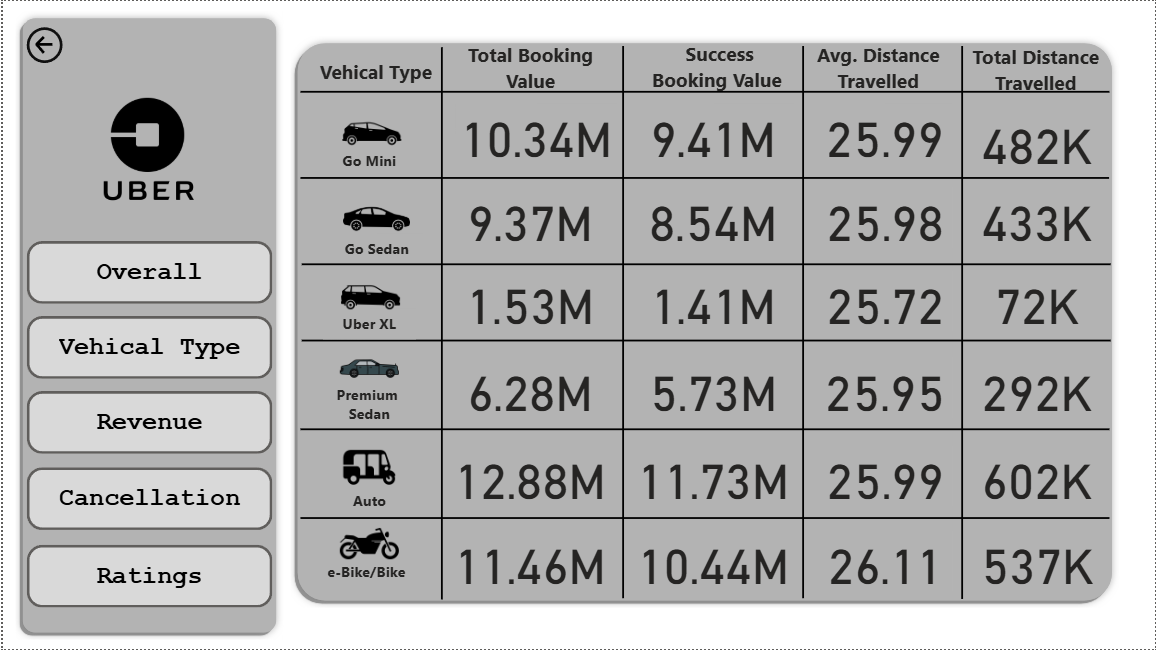

Layout of this report page (visuals, bound fields, positions):
{"tool":"powerbi","page":{"name":"Vehical Type","canvas":[1280,720],"ordinal":2},"visuals":[{"type":"shape","box":[13.9,11.1,297.7,698.4],"z":0},{"type":"actionButton","box":[26.1,28.8,39.8,39.8],"z":1000},{"type":"actionButton","box":[26.1,266.2,273.1,70],"z":2000},{"type":"actionButton","box":[26.1,349.9,273.1,70],"z":3000},{"type":"actionButton","box":[26.1,433.6,273.1,70],"z":4000},{"type":"actionButton","box":[26.1,518.7,273.1,70],"z":5000},{"type":"actionButton","box":[26.1,603.8,273.1,70],"z":6000},{"type":"shape","box":[319.7,38.4,920.8,635.3],"z":7000},{"type":"shape","box":[330.7,59,898.8,85.1],"z":8000},{"type":"shape","box":[331.1,154.4,898.8,84.9],"z":9000},{"type":"shape","box":[332.1,249.7,898.8,85.1],"z":10000},{"type":"shape","box":[332.1,334.8,898.8,85.1],"z":11000},{"type":"shape","box":[410.4,51.5,153,613.6],"z":12000},{"type":"shape","box":[612.2,50.1,153,613.6],"z":13000},{"type":"shape","box":[812.5,50.1,153,613.6],"z":14000},{"type":"shape","box":[989.4,49.4,153.7,614.8],"z":15000},{"type":"shape","box":[330.7,433.6,898.8,85.1],"z":16000},{"type":"shape","box":[330.7,532.4,898.8,85.1],"z":17000},{"type":"textbox","box":[343.1,59,142.7,42.5],"z":18000},{"type":"textbox","box":[502.3,40.3,167,71],"z":19000},{"type":"textbox","box":[712.2,38.4,167.4,72.7],"z":20000},{"type":"textbox","box":[889.2,39.8,167.4,72.7],"z":21000},{"type":"textbox","box":[1063.5,41.2,167.4,72.7],"z":22000},{"type":"card","fields":{"Values":["Sum(Uber.Booking Value)"]},"box":[502.3,114.1,179.5,68.2],"z":23000},{"type":"card","fields":{"Values":["Sum(Uber.Booking Value)"]},"box":[698.4,114.1,180.9,68.2],"z":24000},{"type":"card","fields":{"Values":["Avg(Uber.Ride Distance)"]},"box":[905.7,114.1,148.9,68.2],"z":25000},{"type":"textbox","box":[356.2,161.4,103,34.8],"z":26000},{"type":"textbox","box":[363.6,258,102.9,32],"z":27000},{"type":"textbox","box":[356.2,342.3,103,34.8],"z":28000},{"type":"textbox","box":[356.2,420.2,103,53],"z":29000},{"type":"textbox","box":[355.6,538.8,103.4,34.5],"z":30000},{"type":"textbox","box":[356.2,617.7,103,33.4],"z":31000},{"type":"card","fields":{"Values":["Sum(Uber.Ride Distance)"]},"box":[1074.4,120.8,148.2,68.6],"z":32000},{"type":"card","fields":{"Values":["Sum(Uber.Booking Value)"]},"box":[495.4,207.2,179.8,67.2],"z":33000},{"type":"card","fields":{"Values":["Sum(Uber.Booking Value)"]},"box":[698.5,207.2,181.1,67.2],"z":34000},{"type":"card","fields":{"Values":["Avg(Uber.Ride Distance)"]},"box":[905.7,207.2,149.6,67.2],"z":35000},{"type":"card","fields":{"Values":["Sum(Uber.Ride Distance)"]},"box":[1074.4,207.2,148.2,67.2],"z":36000},{"type":"card","fields":{"Values":["Sum(Uber.Booking Value)"]},"box":[495.5,299.5,179.8,67.2],"z":37000},{"type":"card","fields":{"Values":["Sum(Uber.Booking Value)"]},"box":[698.6,299.5,181.1,67.2],"z":38000},{"type":"card","fields":{"Values":["Avg(Uber.Ride Distance)"]},"box":[905.8,299.5,149.6,67.2],"z":39000},{"type":"card","fields":{"Values":["Sum(Uber.Ride Distance)"]},"box":[1074.6,299.5,148.2,67.2],"z":40000},{"type":"card","fields":{"Values":["Sum(Uber.Booking Value)"]},"box":[495.6,396.3,179.8,67.2],"z":41000},{"type":"card","fields":{"Values":["Sum(Uber.Booking Value)"]},"box":[698.7,396.3,181.1,67.2],"z":42000},{"type":"card","fields":{"Values":["Avg(Uber.Ride Distance)"]},"box":[905.9,396.3,149.6,67.2],"z":43000},{"type":"card","fields":{"Values":["Sum(Uber.Ride Distance)"]},"box":[1074.7,396.3,148.2,67.2],"z":44000},{"type":"card","fields":{"Values":["Sum(Uber.Booking Value)"]},"box":[495.7,494.1,179.8,67.2],"z":45000},{"type":"card","fields":{"Values":["Sum(Uber.Booking Value)"]},"box":[698.8,494.1,181.1,67.2],"z":46000},{"type":"card","fields":{"Values":["Avg(Uber.Ride Distance)"]},"box":[906,494.1,149.6,67.2],"z":47000},{"type":"card","fields":{"Values":["Sum(Uber.Ride Distance)"]},"box":[1074.8,494.1,148.2,67.2],"z":48000},{"type":"card","fields":{"Values":["Sum(Uber.Booking Value)"]},"box":[495.7,588.5,179.8,67.2],"z":49000},{"type":"card","fields":{"Values":["Sum(Uber.Booking Value)"]},"box":[698.8,588.5,181.1,67.2],"z":50000},{"type":"card","fields":{"Values":["Avg(Uber.Ride Distance)"]},"box":[906,588.5,149.6,67.2],"z":51000},{"type":"card","fields":{"Values":["Sum(Uber.Ride Distance)"]},"box":[1074.8,588.5,148.2,67.2],"z":52000},{"type":"image","box":[372.1,110.3,75.8,75.8],"z":53000},{"type":"image","box":[370.7,292.2,75.8,75.8],"z":54000},{"type":"image","box":[369.3,370.7,75.8,75.8],"z":55000},{"type":"image","box":[372.1,199.8,85.4,84.1],"z":56000},{"type":"image","box":[369.3,481,75.8,75.8],"z":57000},{"type":"image","box":[369.3,565,75.8,75.8],"z":58000},{"type":"image","box":[84.1,155.7,154.4,110.3],"z":59000},{"type":"image","box":[96.5,103.4,129.5,92.3],"z":60000}]}

Visuals, with their boxes in screenshot pixels (x1, y1, x2, y2), scaled from the page's 1280x720 canvas onto the 1156x650 screenshot:
shape: 13:10:281:641
actionButton: 24:26:60:62
actionButton: 24:240:270:304
actionButton: 24:316:270:379
actionButton: 24:391:270:455
actionButton: 24:468:270:531
actionButton: 24:545:270:608
shape: 289:35:1120:608
shape: 299:53:1110:130
shape: 299:139:1111:216
shape: 300:225:1112:302
shape: 300:302:1112:379
shape: 371:46:509:600
shape: 553:45:691:599
shape: 734:45:872:599
shape: 894:45:1032:600
shape: 299:391:1110:468
shape: 299:481:1110:557
textbox: 310:53:439:92
textbox: 454:36:604:100
textbox: 643:35:794:100
textbox: 803:36:954:102
textbox: 960:37:1112:103
card - Sum(Uber.Booking Value): 454:103:616:165
card - Sum(Uber.Booking Value): 631:103:794:165
card - Avg(Uber.Ride Distance): 818:103:952:165
textbox: 322:146:415:177
textbox: 328:233:421:262
textbox: 322:309:415:340
textbox: 322:379:415:427
textbox: 321:486:415:518
textbox: 322:558:415:588
card - Sum(Uber.Ride Distance): 970:109:1104:171
card - Sum(Uber.Booking Value): 447:187:610:248
card - Sum(Uber.Booking Value): 631:187:794:248
card - Avg(Uber.Ride Distance): 818:187:953:248
card - Sum(Uber.Ride Distance): 970:187:1104:248
card - Sum(Uber.Booking Value): 447:270:610:331
card - Sum(Uber.Booking Value): 631:270:794:331
card - Avg(Uber.Ride Distance): 818:270:953:331
card - Sum(Uber.Ride Distance): 970:270:1104:331
card - Sum(Uber.Booking Value): 448:358:610:418
card - Sum(Uber.Booking Value): 631:358:795:418
card - Avg(Uber.Ride Distance): 818:358:953:418
card - Sum(Uber.Ride Distance): 971:358:1104:418
card - Sum(Uber.Booking Value): 448:446:610:507
card - Sum(Uber.Booking Value): 631:446:795:507
card - Avg(Uber.Ride Distance): 818:446:953:507
card - Sum(Uber.Ride Distance): 971:446:1105:507
card - Sum(Uber.Booking Value): 448:531:610:592
card - Sum(Uber.Booking Value): 631:531:795:592
card - Avg(Uber.Ride Distance): 818:531:953:592
card - Sum(Uber.Ride Distance): 971:531:1105:592
image: 336:100:405:168
image: 335:264:403:332
image: 334:335:402:403
image: 336:180:413:256
image: 334:434:402:503
image: 334:510:402:578
image: 76:141:215:240
image: 87:93:204:177
